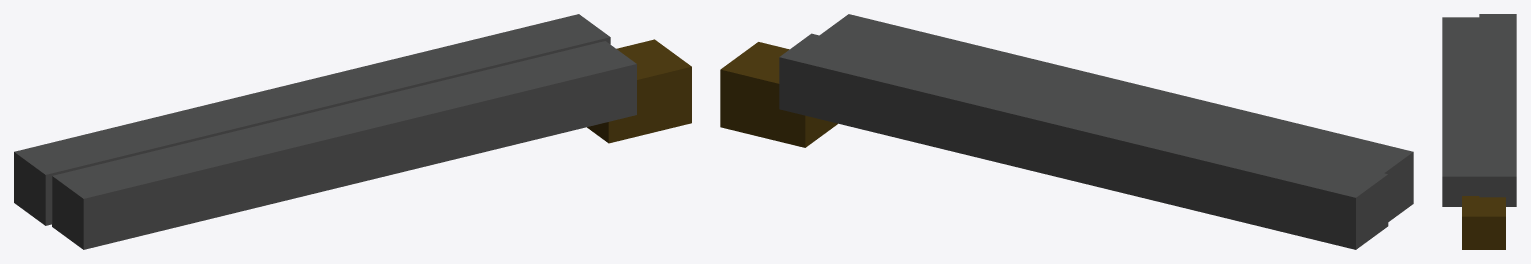
Rendered from bombastic.glb.
The picture shows the model from 3 angles, left to right: view 1: azimuth 30°, elevation 25°; view 2: azimuth 150°, elevation 25°; view 3: azimuth 270°, elevation 25°; orthographic projection. The views are drawn at different scales.
Parts seen in each view (by area): view 1: Cube; view 2: Cube; view 3: Cube.
Boxes of the visible parts, x1,y1,x2,y2 form: Cube: (14,14,691,249); Cube: (720,14,1413,249); Cube: (1442,14,1516,249).
Size of the model in its own units: 3.17 by 0.4401 by 0.5485.
